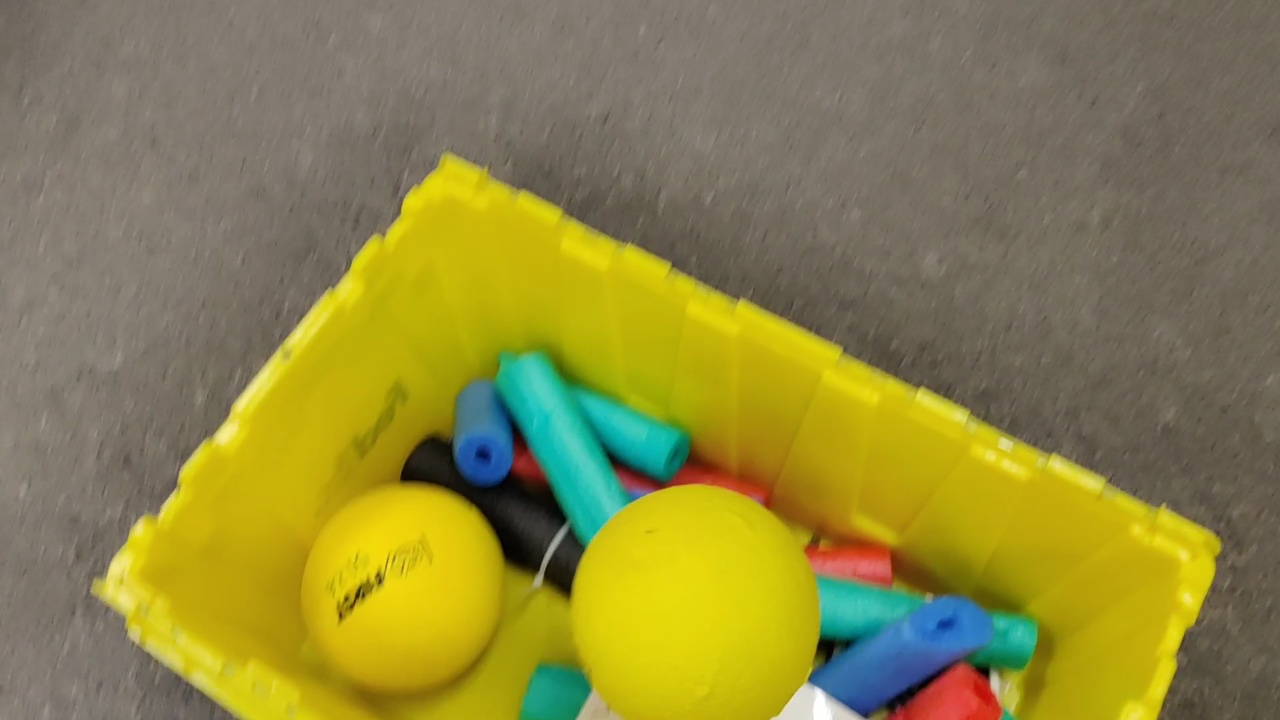Ball: (565, 485, 823, 720), (302, 485, 506, 688)
